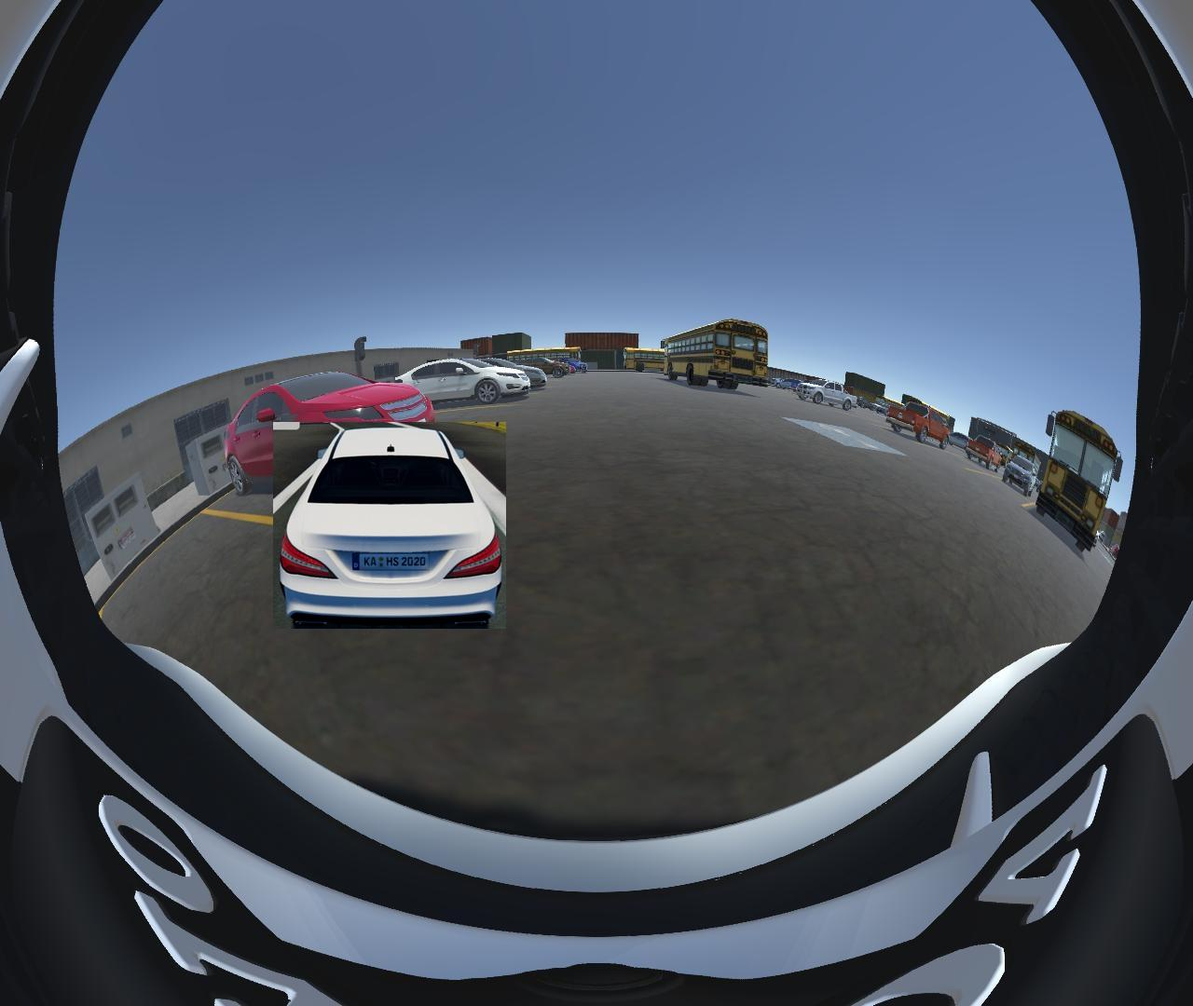Car: (265, 423, 504, 632)
